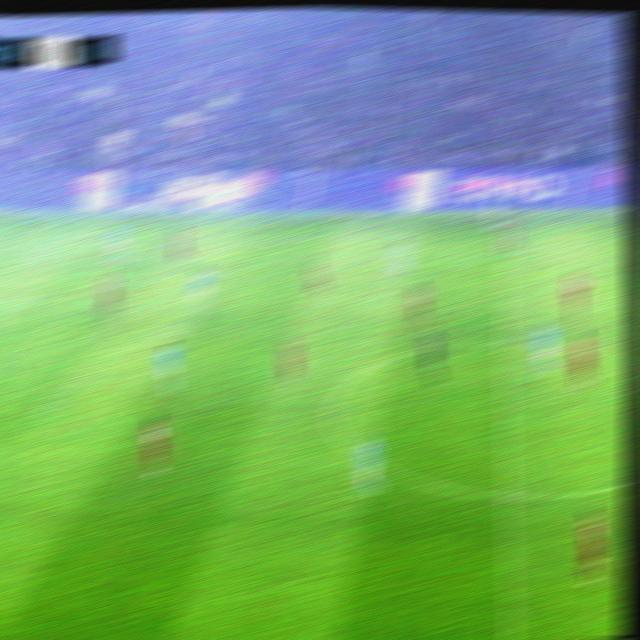halfcircle_bottom: (489, 478, 526, 511)
halfcircle_top: (490, 331, 519, 355)
midline_top_intersection: (494, 212, 518, 228)
